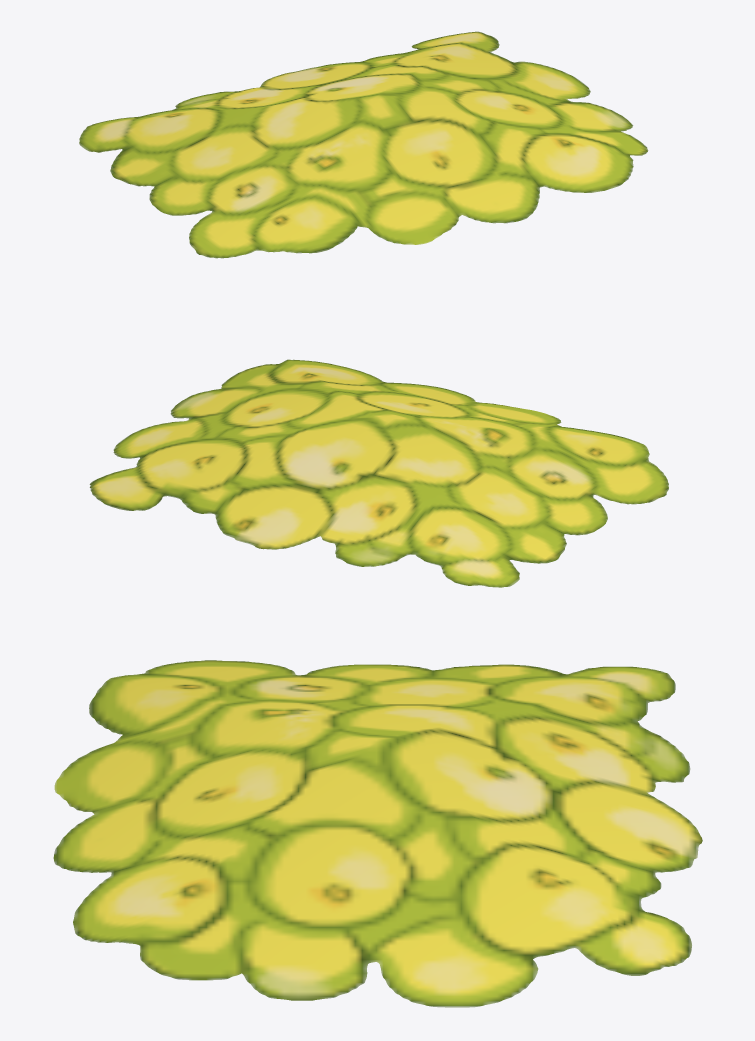
The model's file is giftgoods111a.fbx.
The picture shows the model from 3 angles, top to bottom: view 1: azimuth 30°, elevation 25°; view 2: azimuth 150°, elevation 25°; view 3: azimuth 270°, elevation 25°; orthographic projection. The views are drawn at different scales.
Visible parts, largest first — view 1: giftgoods111a; view 2: giftgoods111a; view 3: giftgoods111a.
Boxes of the visible parts, bbox=[...] form: giftgoods111a: bbox=[79, 31, 648, 258]; giftgoods111a: bbox=[89, 359, 668, 587]; giftgoods111a: bbox=[53, 660, 702, 1007].
Bounding box in the file's own units: 0.9299 × 0.1162 × 0.7704.
